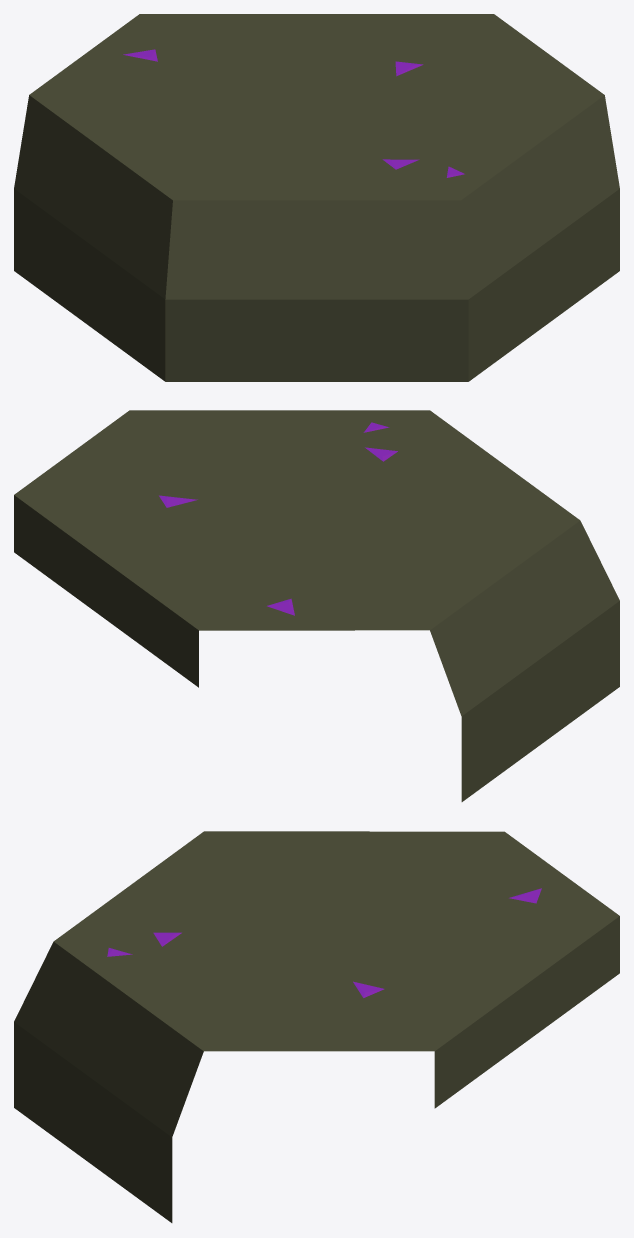
File: nearpointUnit4(2).fbx
3 renders of one model, top to bottom at view 1: azimuth 30°, elevation 25°; view 2: azimuth 150°, elevation 25°; view 3: azimuth 270°, elevation 25°, orthographic. The views are drawn at different scales.
Visible parts, largest first — view 1: nearpointUnit4(2); view 2: nearpointUnit4(2); view 3: nearpointUnit4(2).
Part boxes in pixels (<box>): nearpointUnit4(2): <box>14,14,619,381</box>; nearpointUnit4(2): <box>14,410,619,801</box>; nearpointUnit4(2): <box>14,831,619,1222</box>.
Size of the model in its own units: 1.73 by 1.91 by 0.6037.
